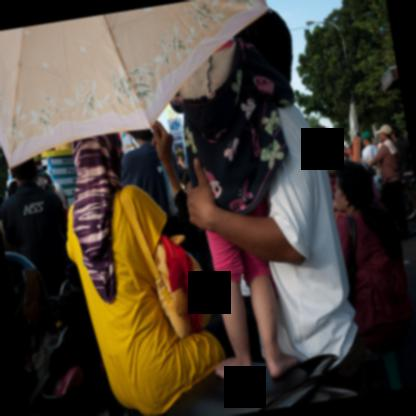handbag: (119, 185, 212, 338), (345, 214, 356, 303)
